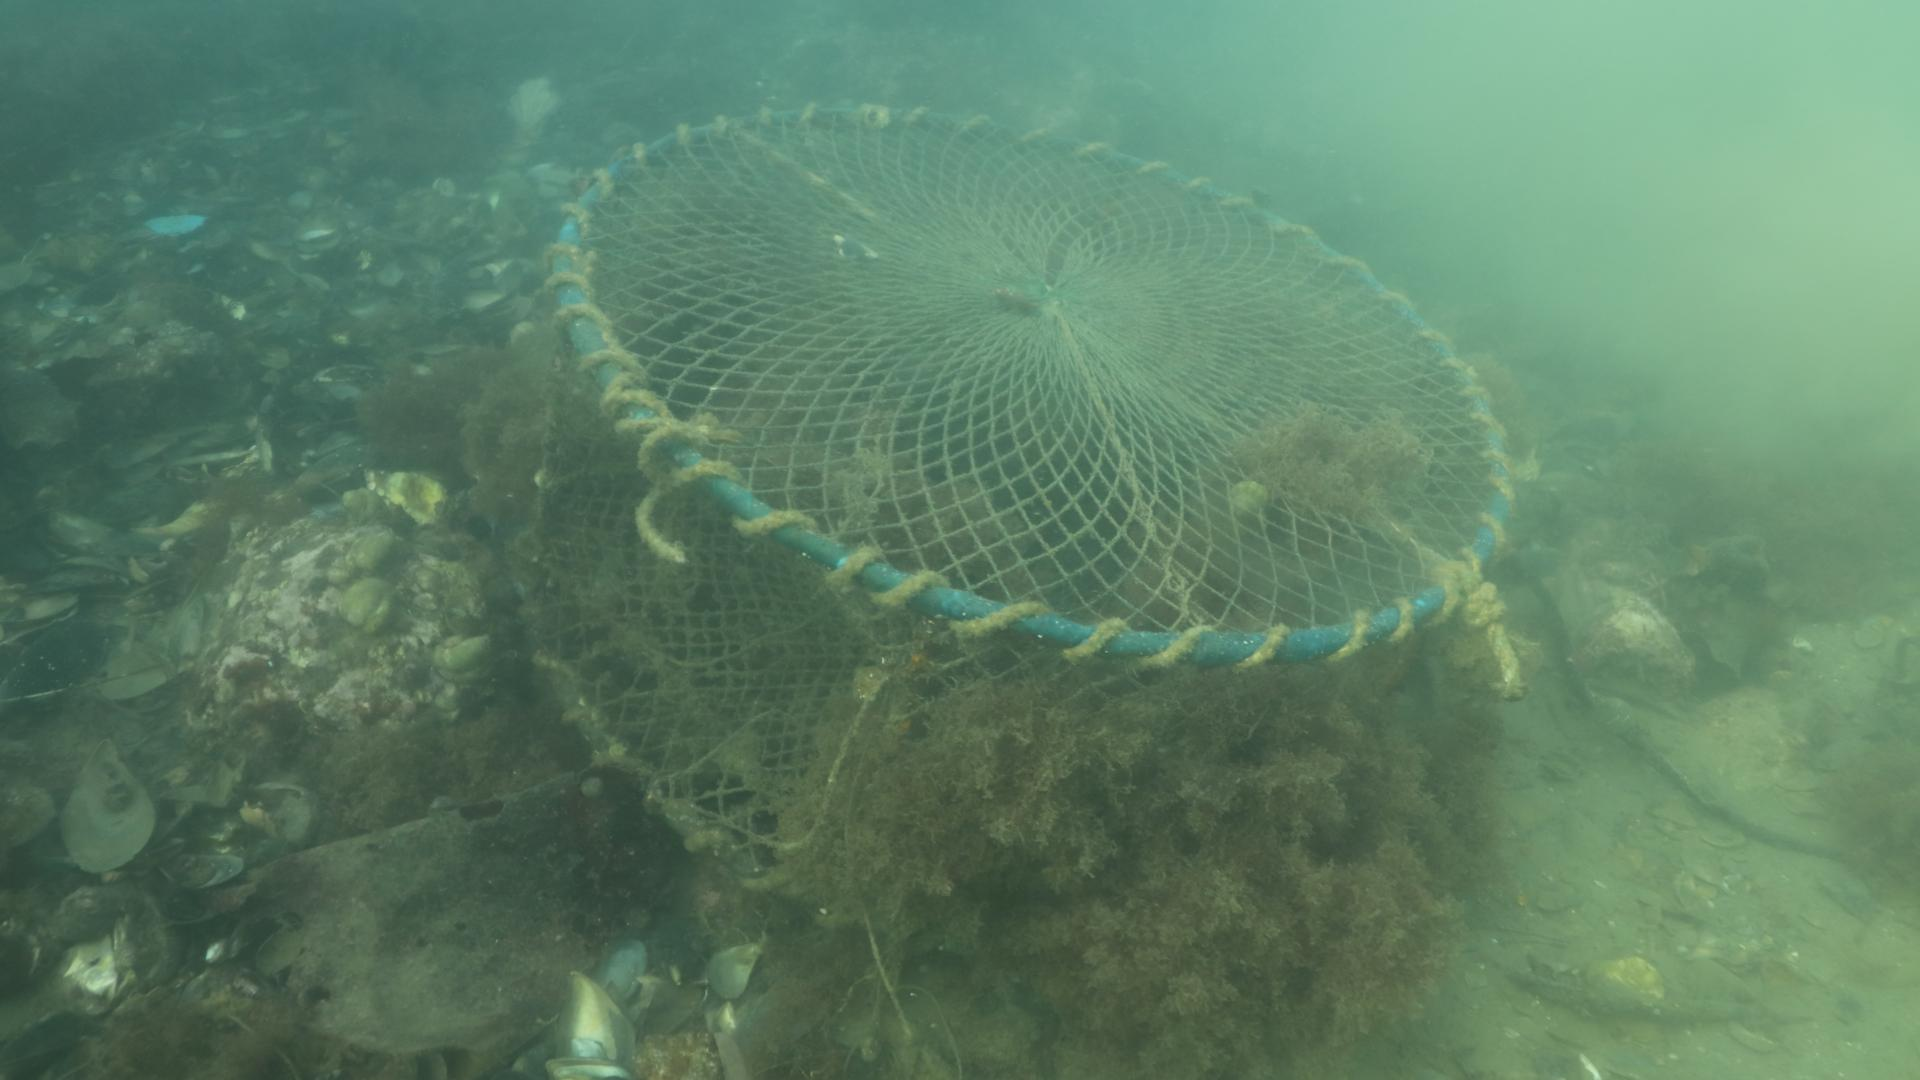circular fish trap: (542, 98, 1522, 880)
